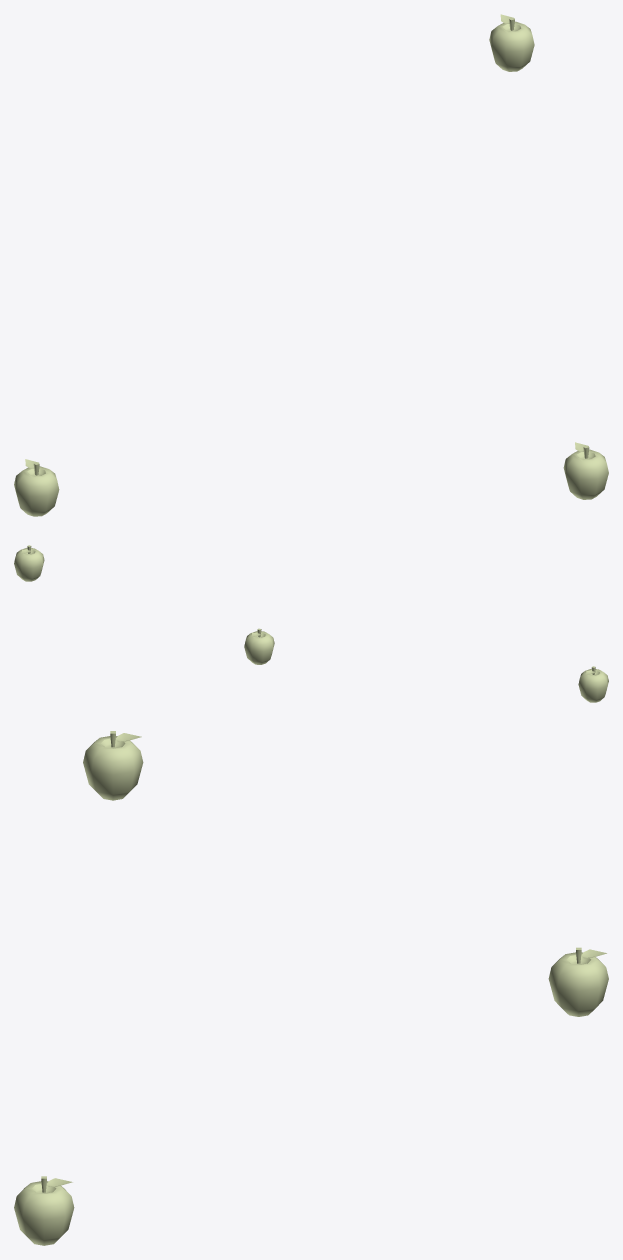
The model's file is crafted-apple-fruits-bud.glb.
3 views of the same model, one above another, from view 1: azimuth 30°, elevation 25°; view 2: azimuth 150°, elevation 25°; view 3: azimuth 270°, elevation 25° (orthographic). The views are drawn at different scales.
Parts seen in each view (by area): view 1: fruit-0, fruit-1, fruit-2; view 2: fruit-0, fruit-2, fruit-1; view 3: fruit-1, fruit-2, fruit-0.
Boxes of the visible parts, box(x1,y1,x2,y2) form: fruit-0: box(14, 459, 59, 516); fruit-1: box(563, 442, 608, 499); fruit-2: box(489, 14, 534, 71); fruit-0: box(578, 666, 608, 702); fruit-2: box(14, 545, 44, 581); fruit-1: box(244, 628, 274, 664); fruit-1: box(14, 1176, 74, 1245); fruit-2: box(548, 947, 608, 1016); fruit-0: box(83, 731, 143, 800).
Bounding box in the file's own units: 1.2 × 0.48 × 0.69.
